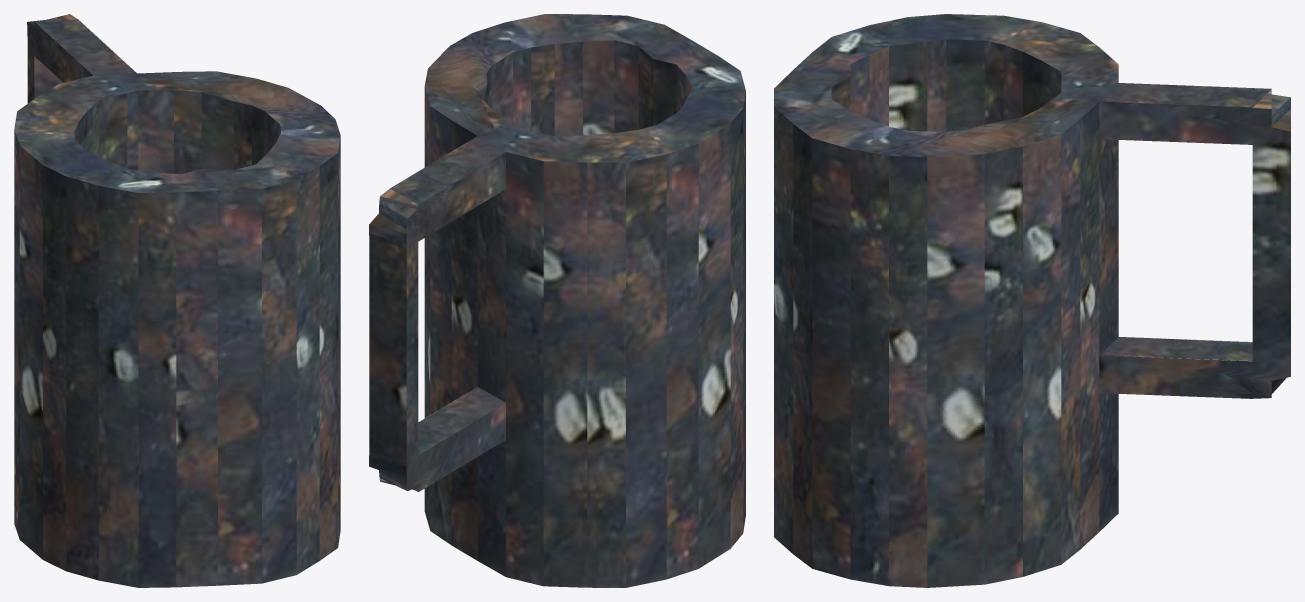
The picture shows the model from 3 angles, left to right: view 1: azimuth 30°, elevation 25°; view 2: azimuth 150°, elevation 25°; view 3: azimuth 270°, elevation 25°; orthographic projection. The views are drawn at different scales.
Parts seen in each view (by area): view 1: mesh1_mesh1-geometry; view 2: mesh1_mesh1-geometry; view 3: mesh1_mesh1-geometry.
Boxes of the visible parts, <box> form: mesh1_mesh1-geometry: <box>14,14,340,587</box>; mesh1_mesh1-geometry: <box>369,14,745,587</box>; mesh1_mesh1-geometry: <box>774,14,1290,587</box>.
Bounding box in the file's own units: 0.4354 × 0.6093 × 0.6627.
2 materials, 1 textured.
